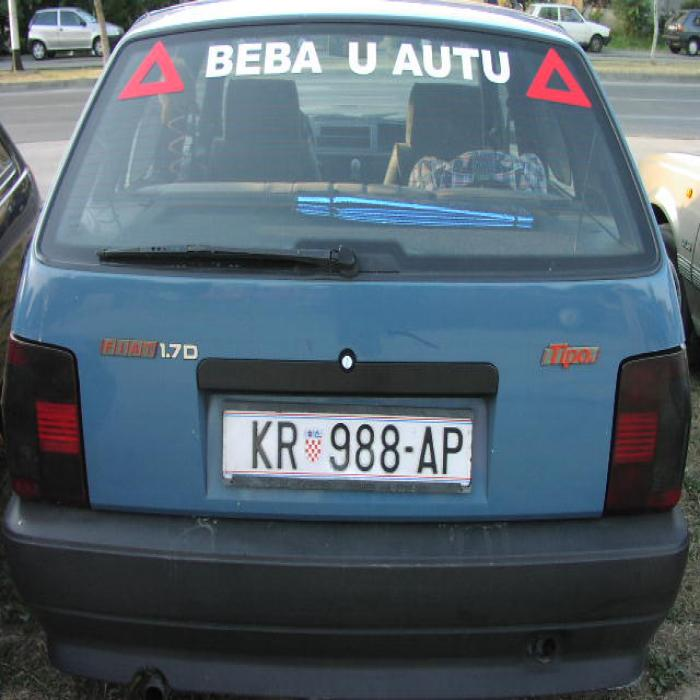number_plate: (223, 413, 468, 478)
